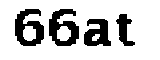6: (7, 3, 47, 50), (46, 5, 81, 49)
a: (81, 14, 113, 52)
t: (113, 12, 142, 49)
